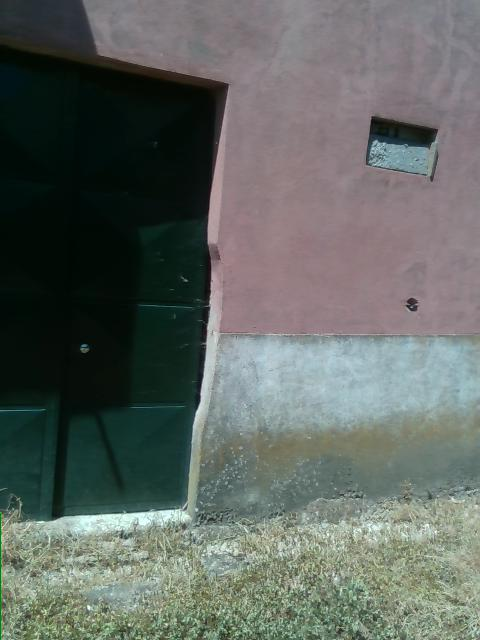door: (0, 37, 224, 527)
